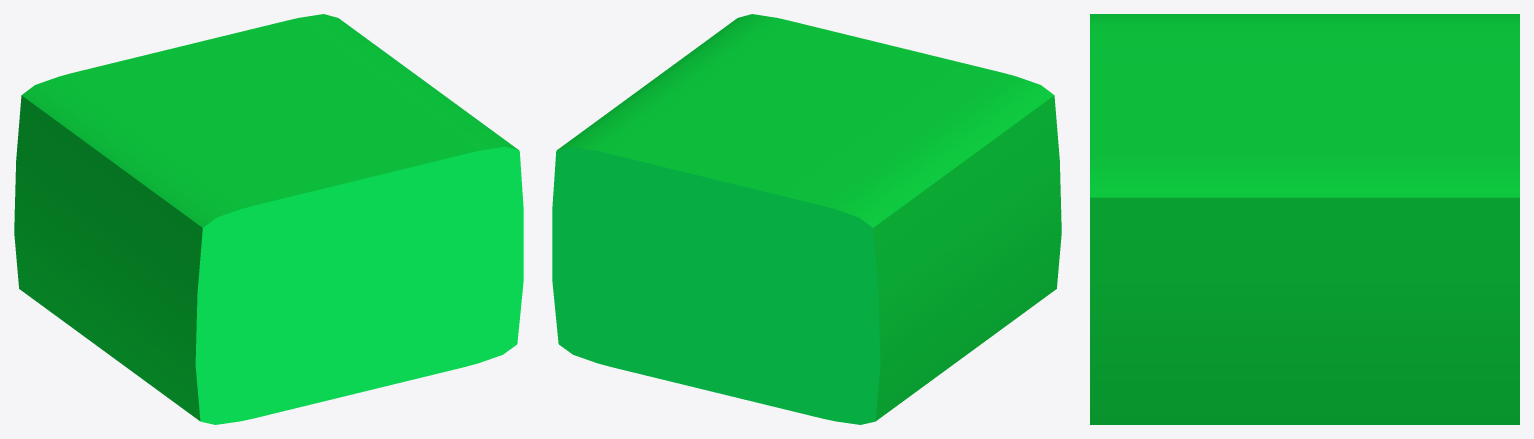
File: 7b16dd8d-af53-4aeb-bd1a-1cb3e92be2fb.glb
3 renders of one model, left to right at view 1: azimuth 30°, elevation 25°; view 2: azimuth 150°, elevation 25°; view 3: azimuth 270°, elevation 25°, orthographic. The views are drawn at different scales.
Parts seen in each view (by area): view 1: -_Zyzol_Green; view 2: -_Zyzol_Green; view 3: -_Zyzol_Green.
Part boxes in pixels (left/top/right/bottom): -_Zyzol_Green: left=14, top=14, right=523, bottom=424; -_Zyzol_Green: left=552, top=14, right=1061, bottom=424; -_Zyzol_Green: left=1090, top=14, right=1519, bottom=424.
Size of what is drawn, in the model's own units: 0.047 by 0.0291 by 0.045.
2 materials, 2 textured.
